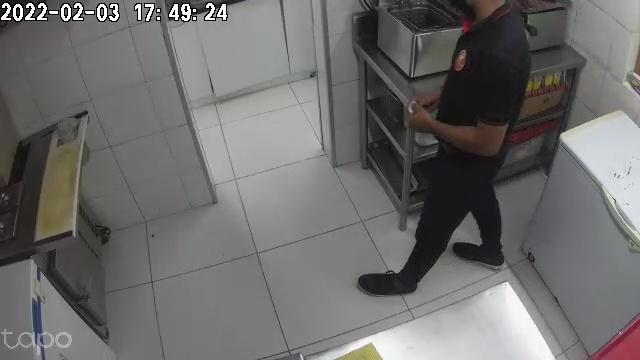no_gloves: (405, 104, 441, 132)
